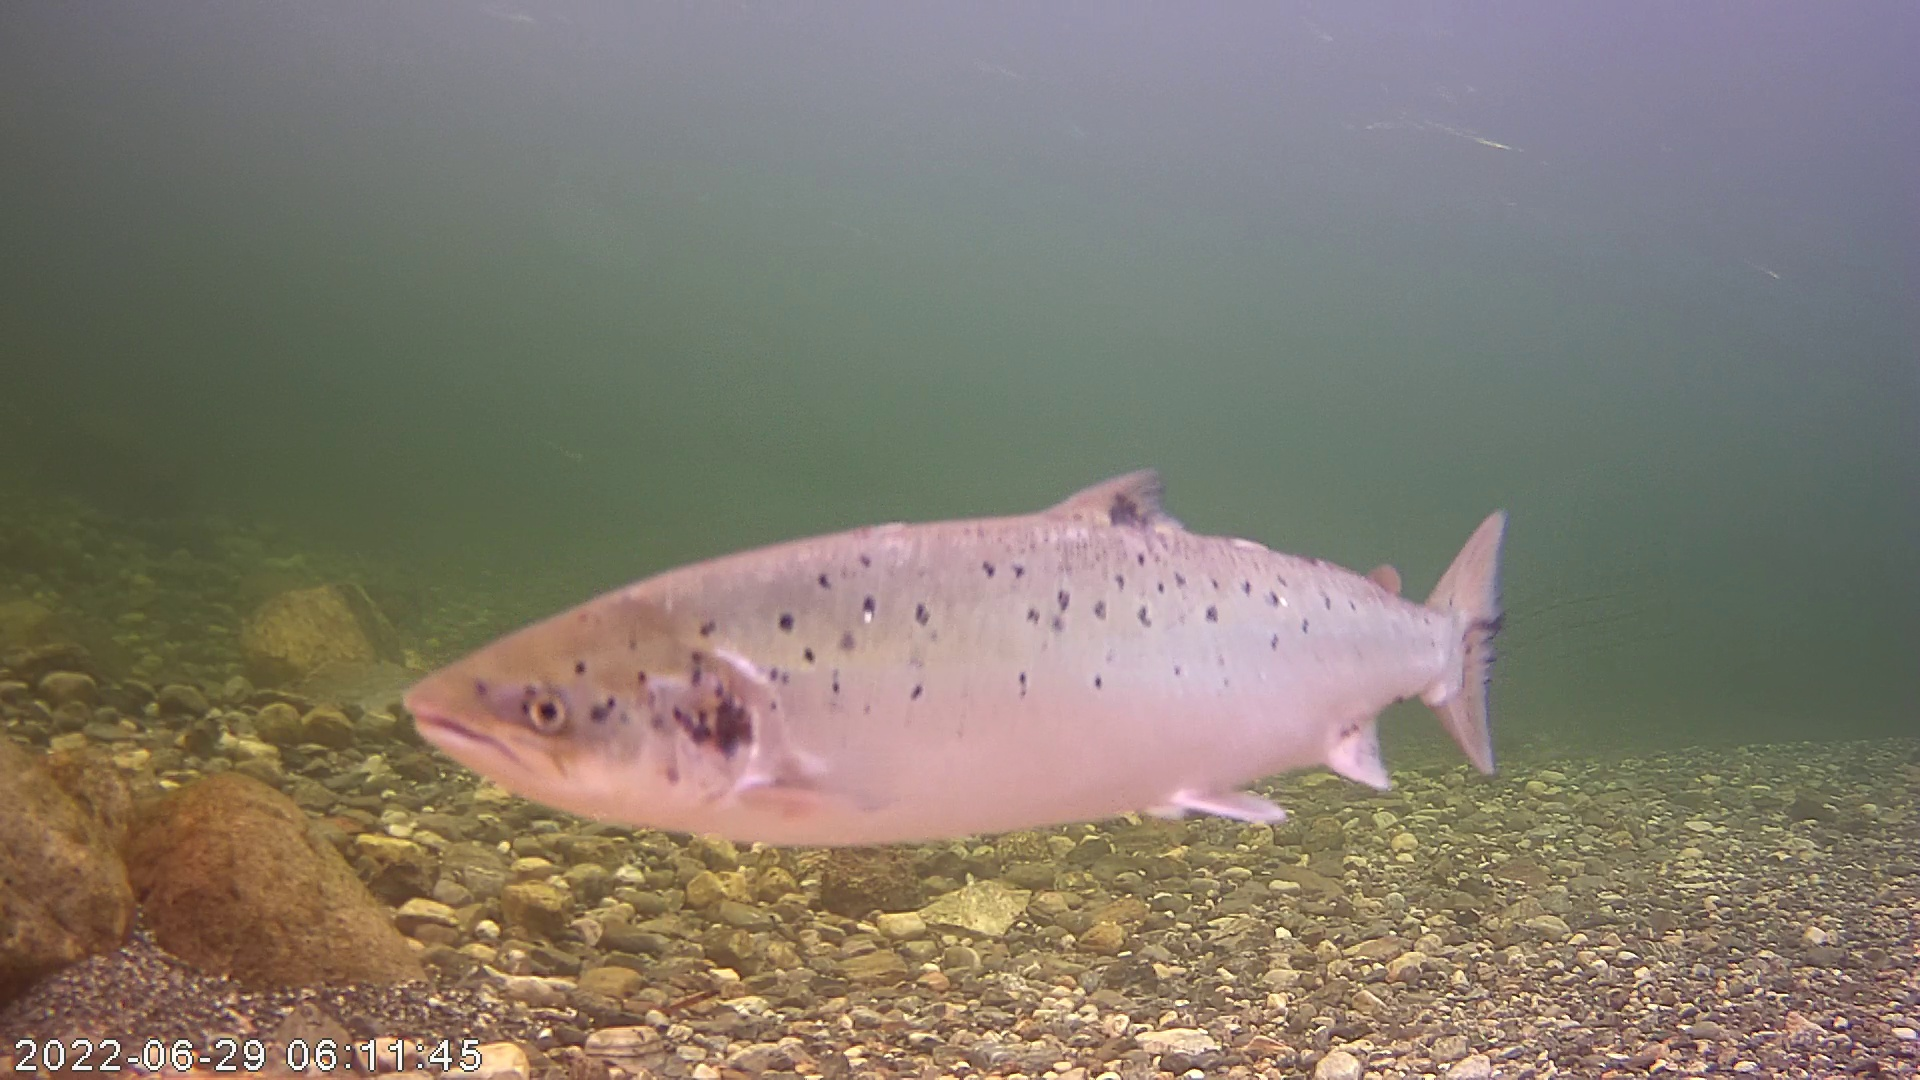salmon: (393, 349, 1506, 845)
